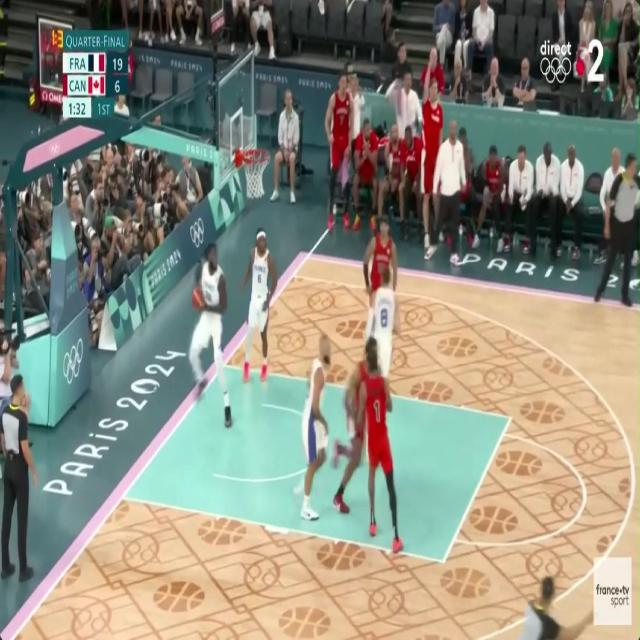ball_handler: (190, 242, 228, 409)
